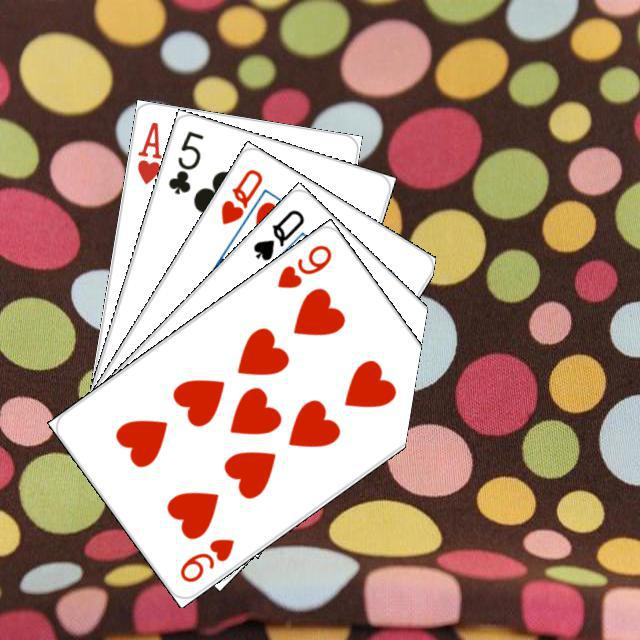5c: (163, 125, 205, 196)
9h: (271, 239, 334, 291), (174, 533, 236, 584)
Ah: (132, 117, 163, 186)
Qh: (215, 163, 265, 227)
Qs: (248, 204, 306, 263)
